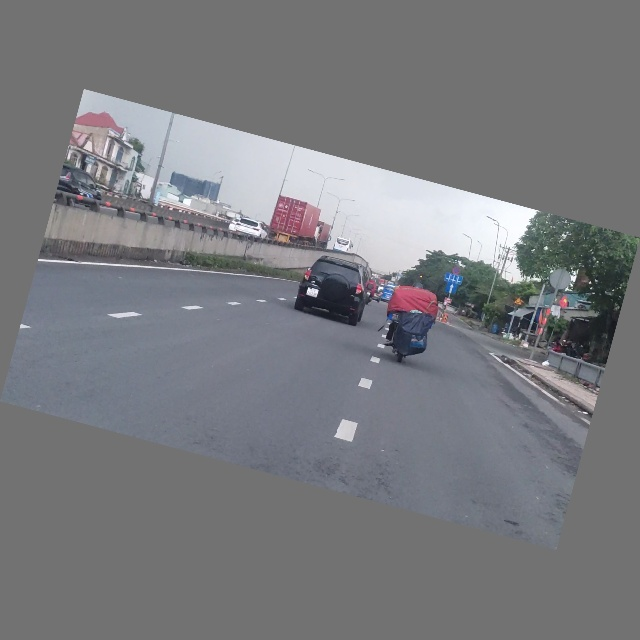I.407a: (445, 282, 458, 295)
P.130: (452, 267, 461, 276)
W.246a: (513, 297, 523, 306)
